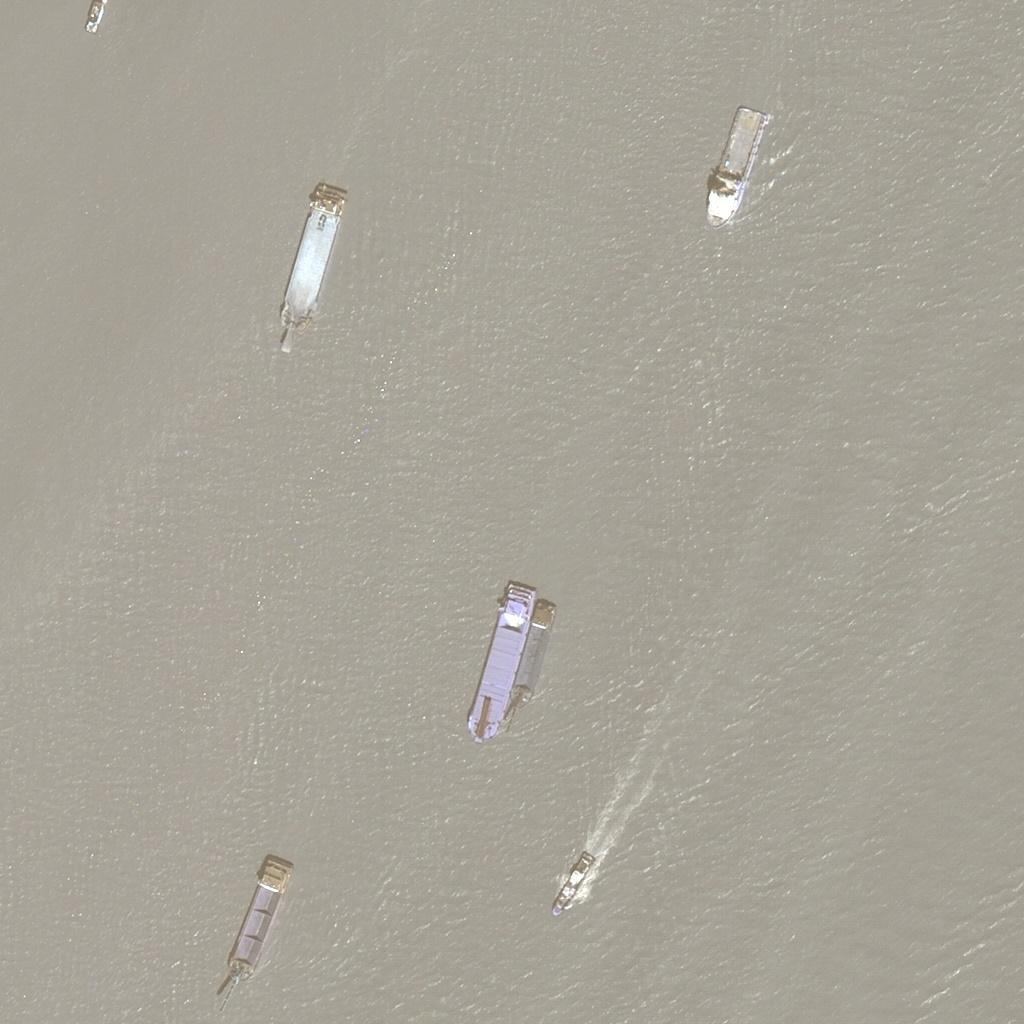ship: (204, 856, 291, 1008), (465, 578, 534, 752)
